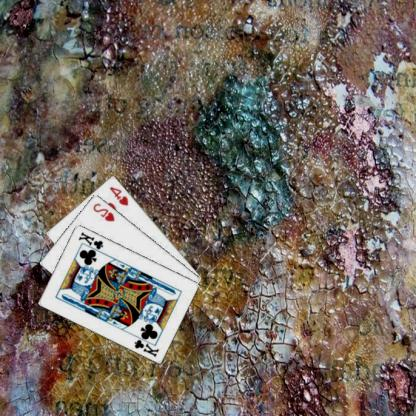2H: (92, 200, 118, 223)
4H: (108, 184, 132, 207)
KC: (133, 332, 162, 358), (78, 229, 106, 255)
